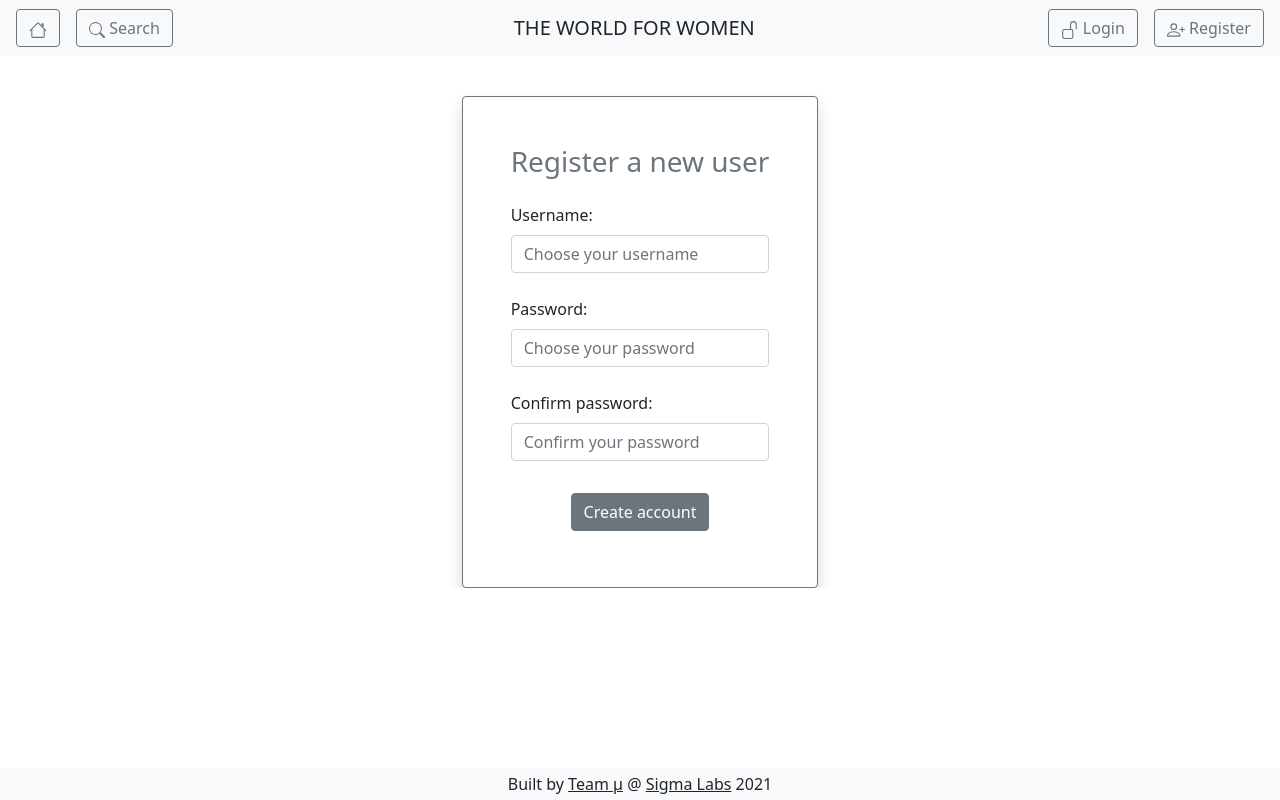
Test: Website having links to different domain paths › renders a Search link which redirects to correct route
The image size is (1280, 800).
Click the button "Search": coordinates (124, 28) left=76, top=9, right=173, bottom=47
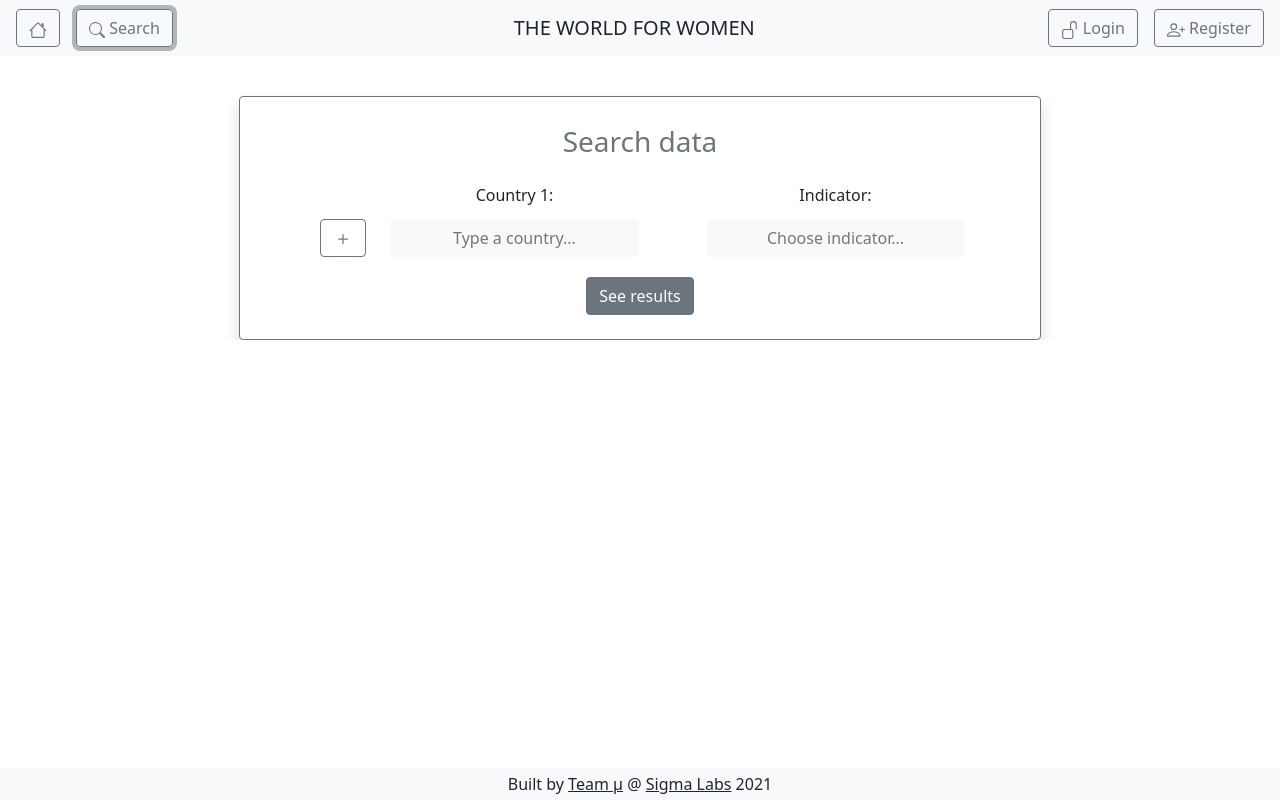
Now the heading "Search data" is shown, box left=563, top=125, right=717, bottom=167
